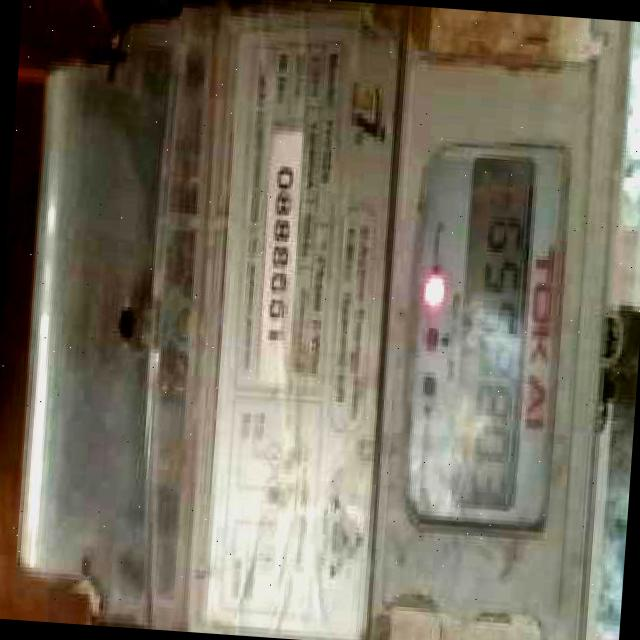LCD: (444, 145, 544, 518)
